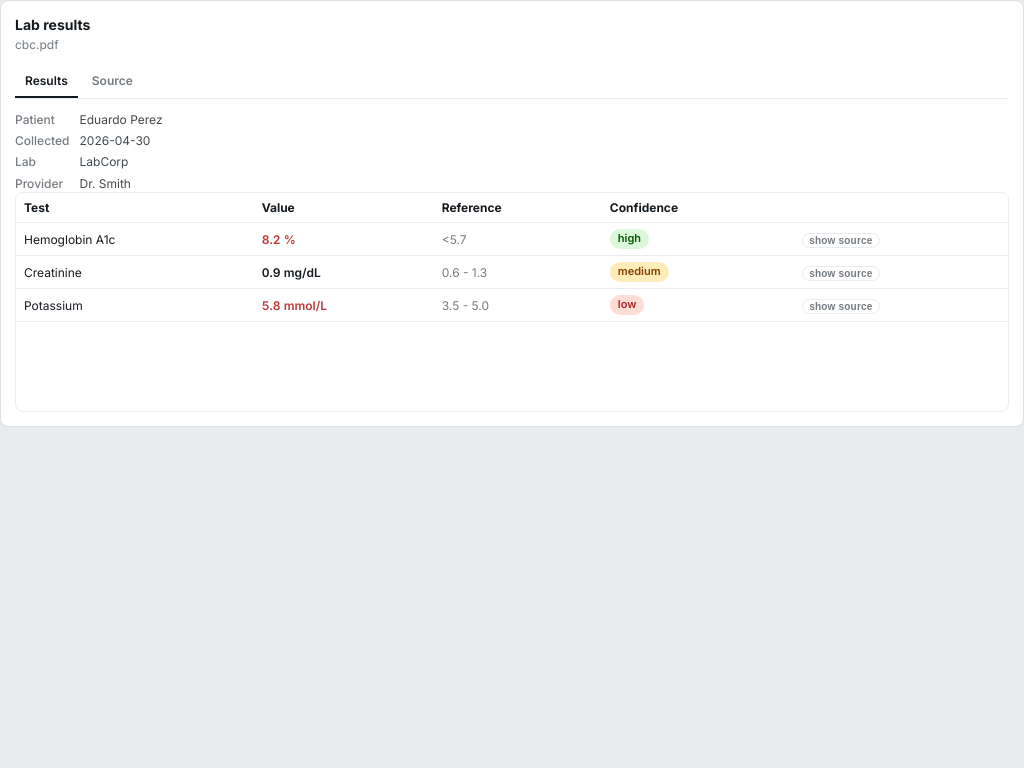
Scenario: ExtractionResultsPanel › PDF source viewer (issue 033) › faintly renders all bboxes for the rendered page and highlights the selected one
Click the button "show source" in the row of "Hemoglobin A1c". click: {"x": 841, "y": 240}
box: [802,233,880,248]
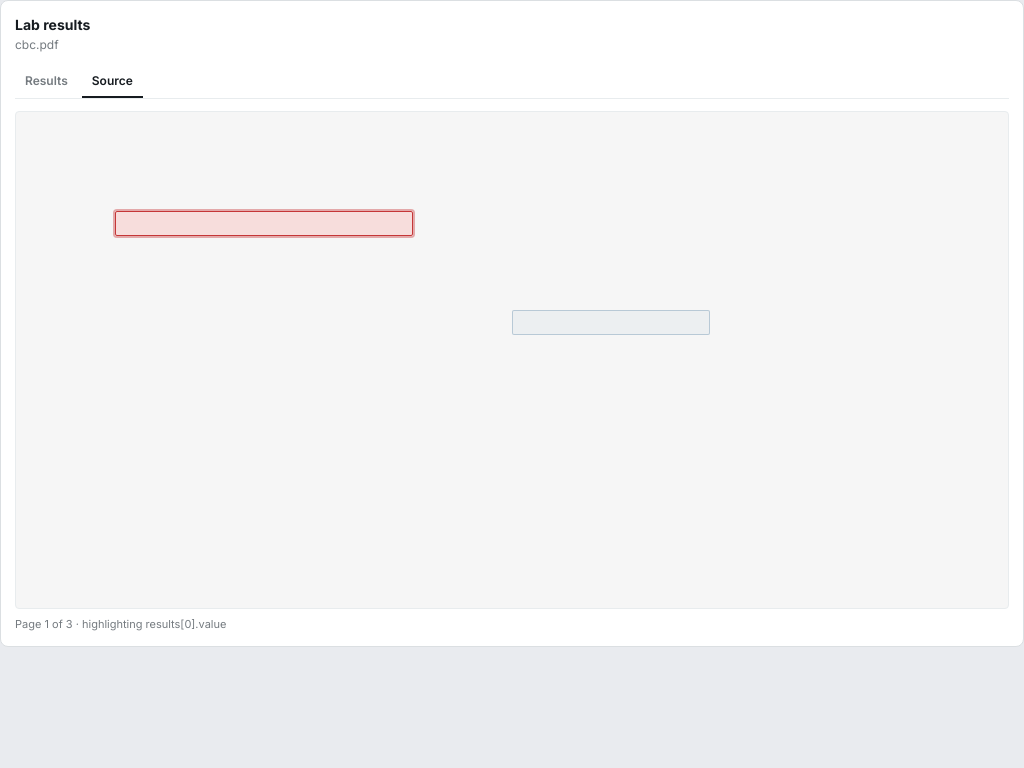
Now the element with test id "source-bbox-selected" is shown, box [115,211,413,236]
